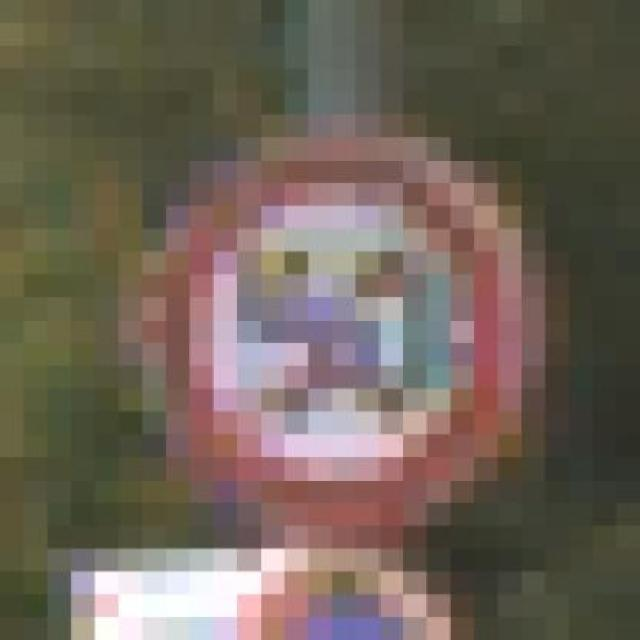forb_speed_over_50: (169, 147, 515, 527)
